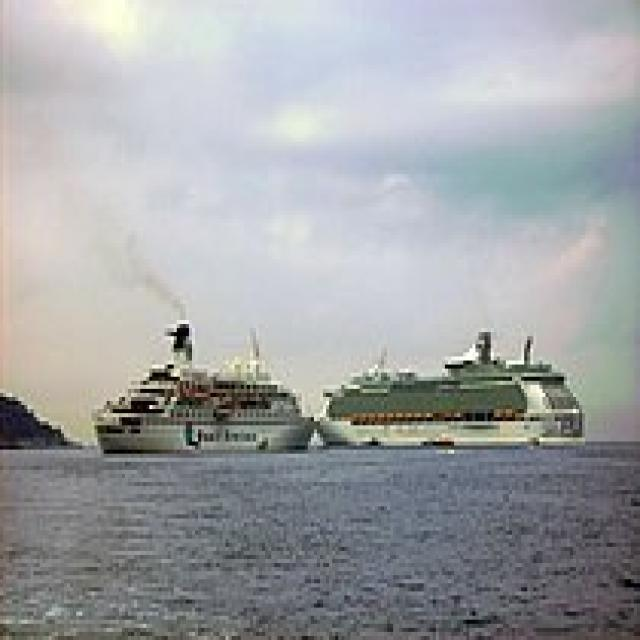Ship: (309, 321, 602, 471), (83, 297, 330, 471)
